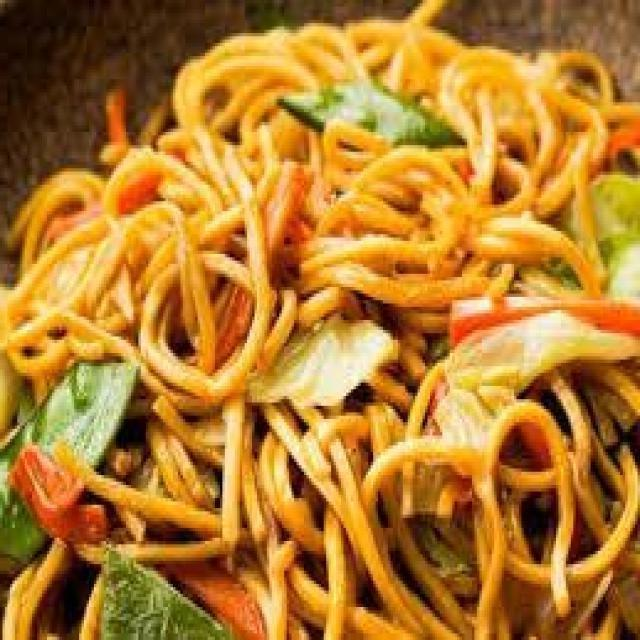pancit bihon: (0, 3, 639, 639)
